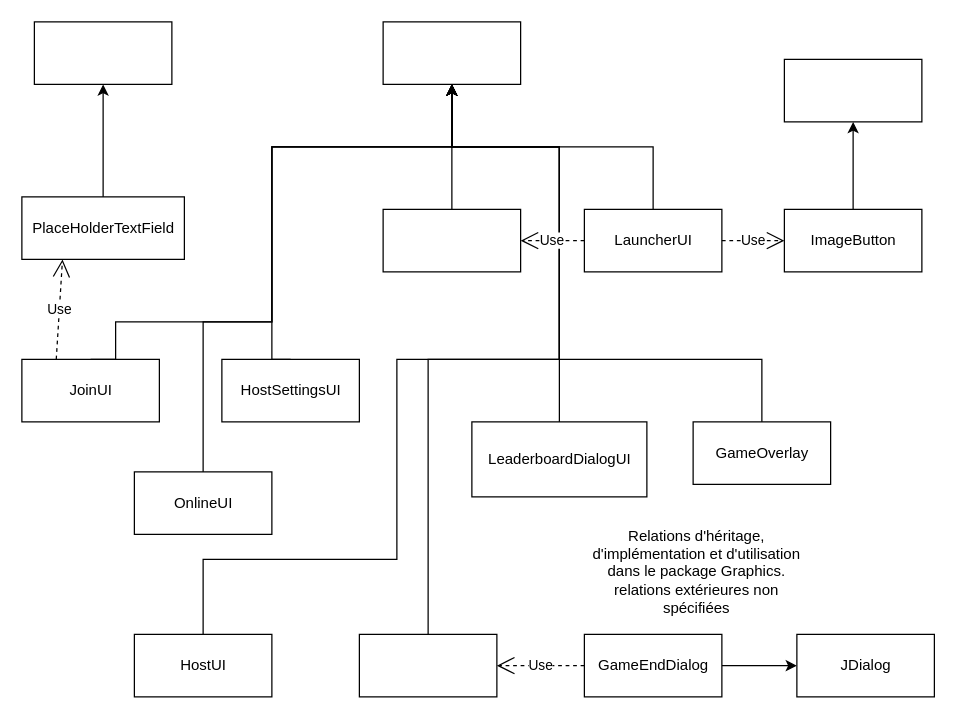
Image size: 956x719. Some labels were removed from this diagram. Each missing label, with the centre of its shape:
"GEDPanel" goes at point 427,665.
"ImagePanel" goes at point 451,240.
"JButton" goes at point 852,90.
"JPanel" goes at point 451,52.
"JTextField" goes at point 102,52.
